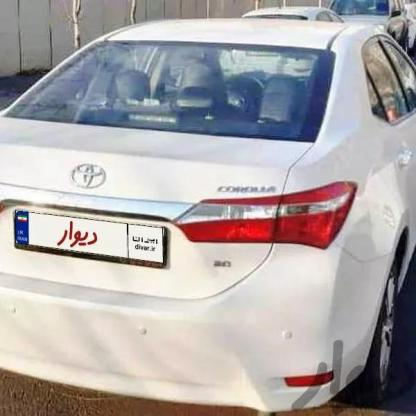Car: (0, 21, 416, 416), (221, 1, 339, 96), (305, 0, 416, 75)
